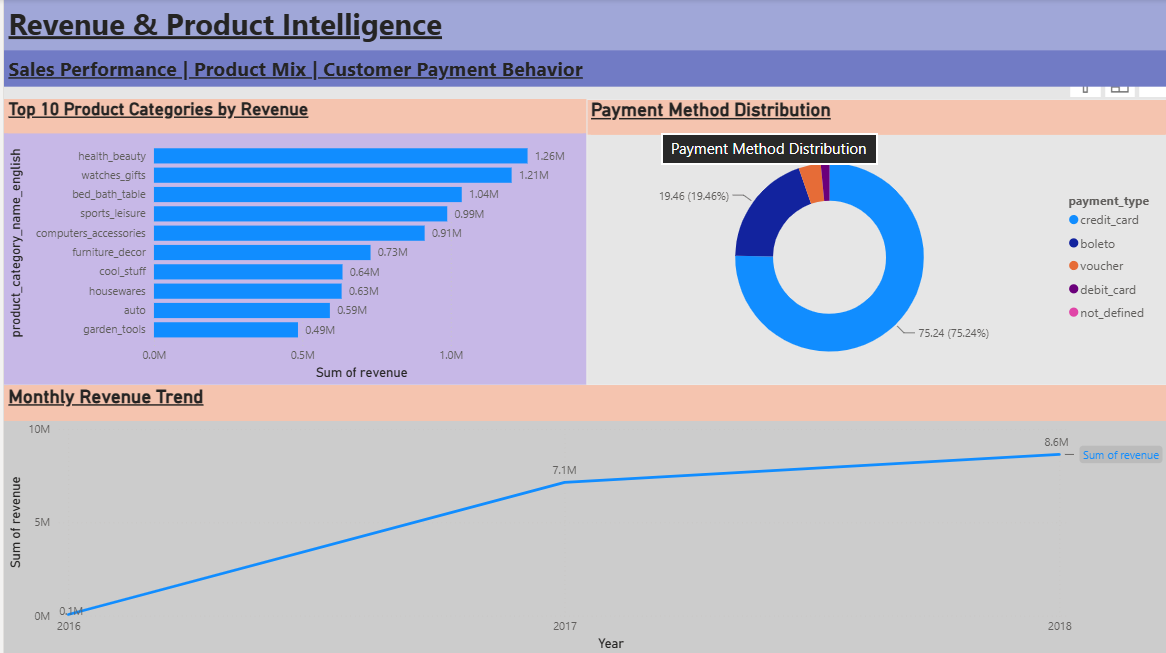

The dashboard page shown, as its layout file describes it:
{"tool":"powerbi","page":{"name":"Revenue & Product Intelligence","canvas":[1280,720],"ordinal":1},"visuals":[{"type":"clusteredBarChart","title":"Top 10 Product Categories by Revenue","fields":{"Category":["category_performance.product_category_name_english"],"Y":["Sum(category_performance.revenue)"]},"box":[0,110,640,313.3],"z":0},{"type":"donutChart","title":"Payment Method Distribution","fields":{"Category":["payment_analysis.payment_type"],"Y":["Sum(payment_analysis.share_percent)"]},"box":[640,110,640,313.3],"z":1000},{"type":"lineChart","title":"Monthly Revenue Trend","fields":{"Category":["monthly_revenue.order_month.Variation.Date Hierarchy.Year","monthly_revenue.order_month.Variation.Date Hierarchy.Quarter","monthly_revenue.order_month.Variation.Date Hierarchy.Month","monthly_revenue.order_month.Variation.Date Hierarchy.Day"],"Y":["Sum(monthly_revenue.revenue)"]},"box":[0,423.3,1280,296.7],"z":2000},{"type":"textbox","box":[0,0,1280,56.7],"z":3000},{"type":"textbox","box":[0,56.7,1280,40],"z":4000}]}

Visuals, with their boxes in screenshot pixels (x1, y1, x2, y2), scaled from the page's 1280x720 canvas onto the 1166x653 screenshot:
"Top 10 Product Categories by Revenue" clusteredBarChart: left=0, top=100, right=583, bottom=384
"Payment Method Distribution" donutChart: left=583, top=100, right=1165, bottom=384
"Monthly Revenue Trend" lineChart: left=0, top=384, right=1165, bottom=652
textbox: left=0, top=0, right=1165, bottom=51
textbox: left=0, top=51, right=1165, bottom=88
